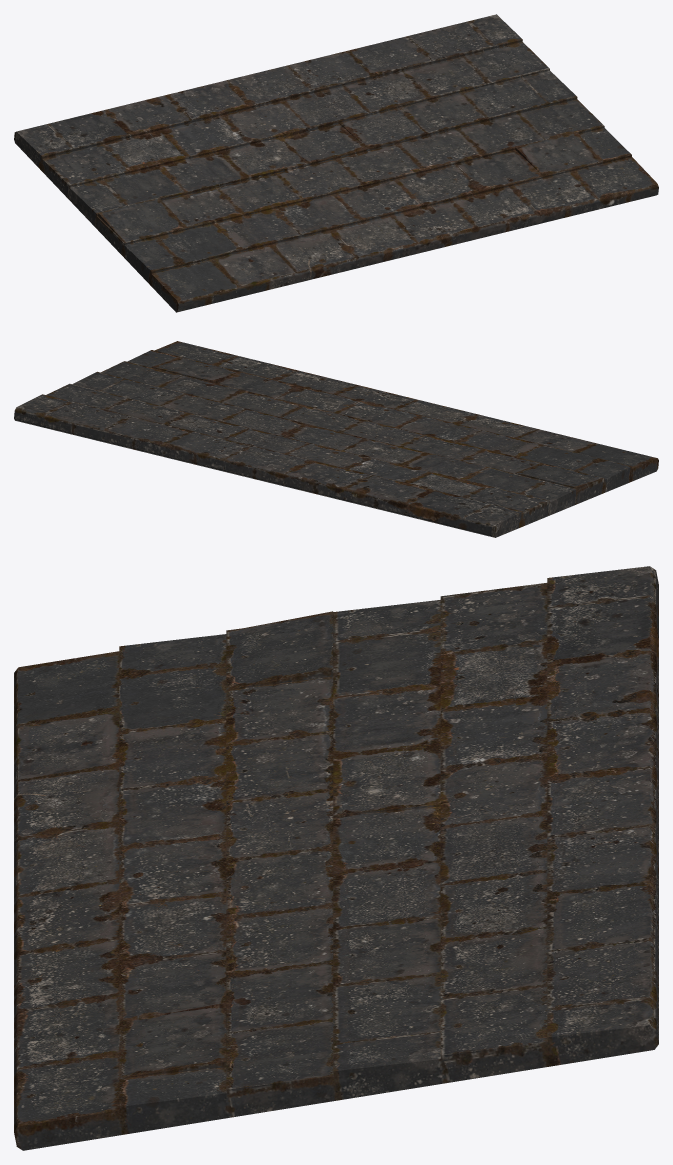
The model's file is WallRoofSmall_Top.fbx.
3 views of the same model, one above another, from view 1: azimuth 30°, elevation 25°; view 2: azimuth 150°, elevation 25°; view 3: azimuth 270°, elevation 25° (orthographic). The views are drawn at different scales.
Visible parts, largest first — view 1: WallRoofSmall_Top_LOD0; view 2: WallRoofSmall_Top_LOD0; view 3: WallRoofSmall_Top_LOD0.
Boxes of the visible parts, x1,y1,x2,y2 form: WallRoofSmall_Top_LOD0: (14, 14, 658, 312); WallRoofSmall_Top_LOD0: (14, 341, 658, 537); WallRoofSmall_Top_LOD0: (14, 566, 658, 1150).
Size of what is drawn, in the model's own units: 200 by 25.46 by 119.
